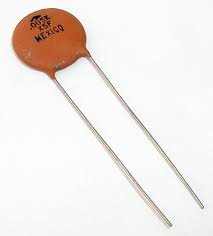ceramic capacitor: (4, 2, 113, 113)
